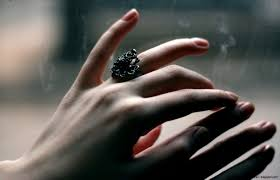hand: (46, 9, 235, 173)
